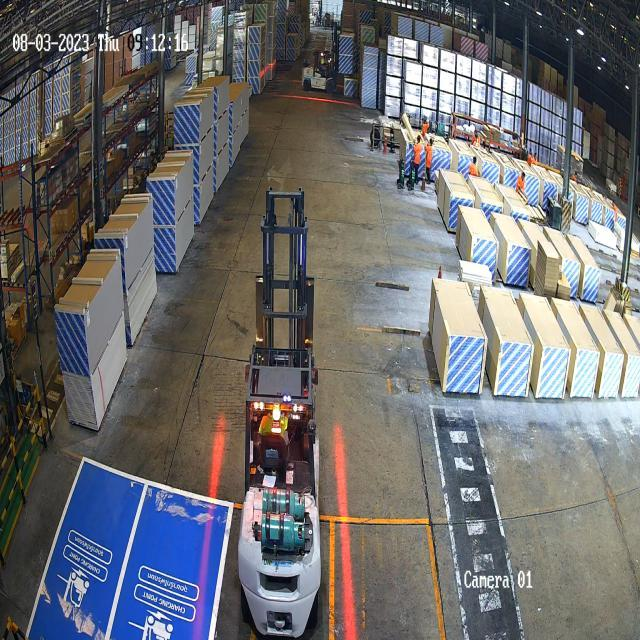driver: (259, 408, 291, 448)
forklift: (235, 180, 330, 640), (302, 44, 338, 97)
person: (412, 134, 422, 184), (424, 136, 434, 186), (470, 156, 477, 176), (518, 171, 525, 190)
